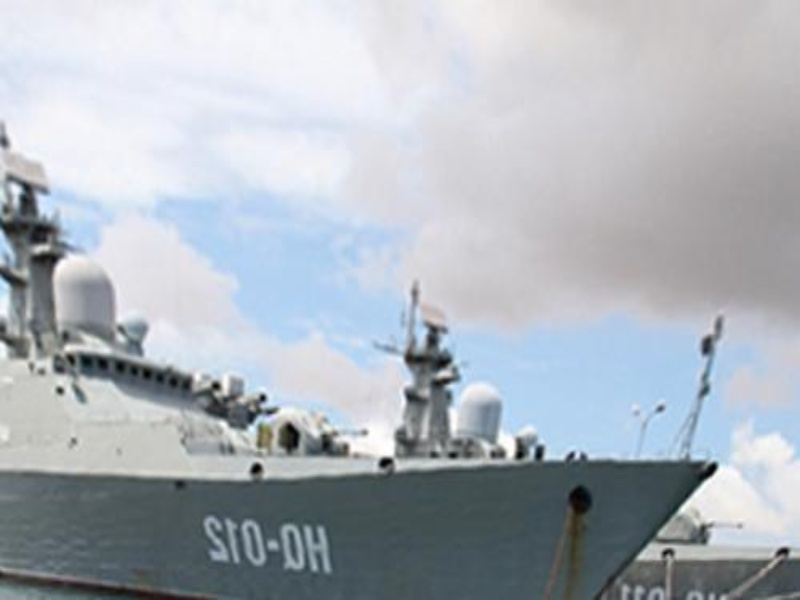cruise: (12, 208, 706, 599)
